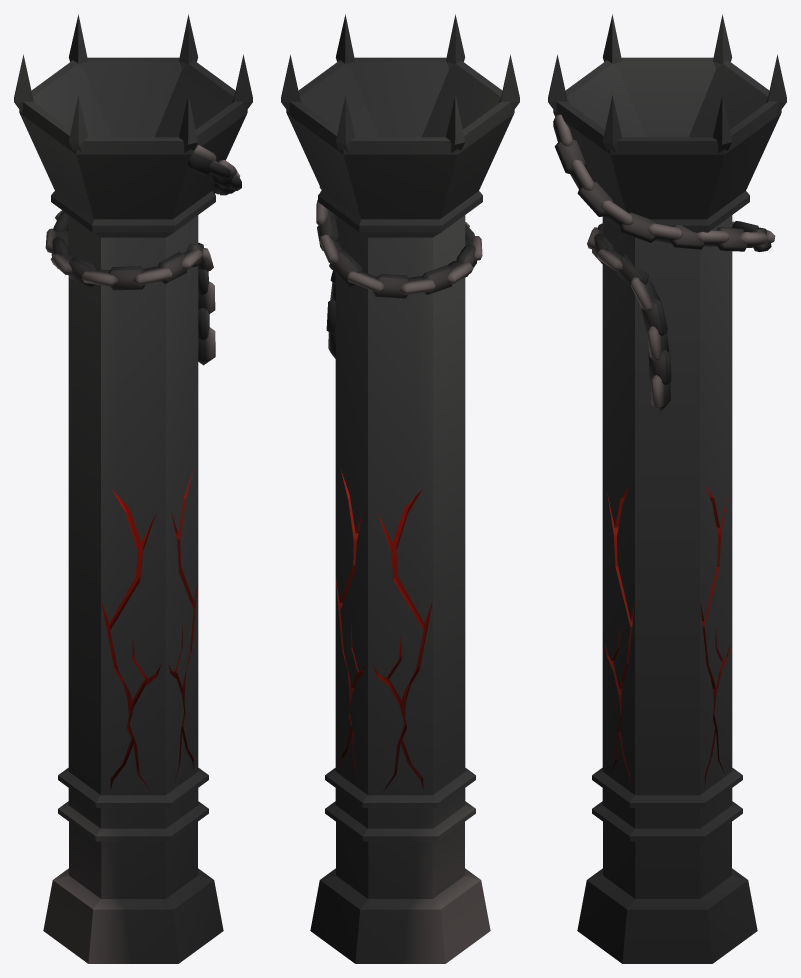
File: Prop_pillar_01.fbx
The picture shows the model from 3 angles, left to right: view 1: azimuth 30°, elevation 25°; view 2: azimuth 150°, elevation 25°; view 3: azimuth 270°, elevation 25°; orthographic projection.
Visible parts, largest first — view 1: Pillar_03; view 2: Pillar_03; view 3: Pillar_03.
Boxes of the visible parts, box(x1,y1,x2,y2) form: Pillar_03: box(14, 14, 252, 963); Pillar_03: box(281, 14, 519, 963); Pillar_03: box(548, 14, 786, 963).
Bounding box in the file's own units: 177 × 805 × 199.
